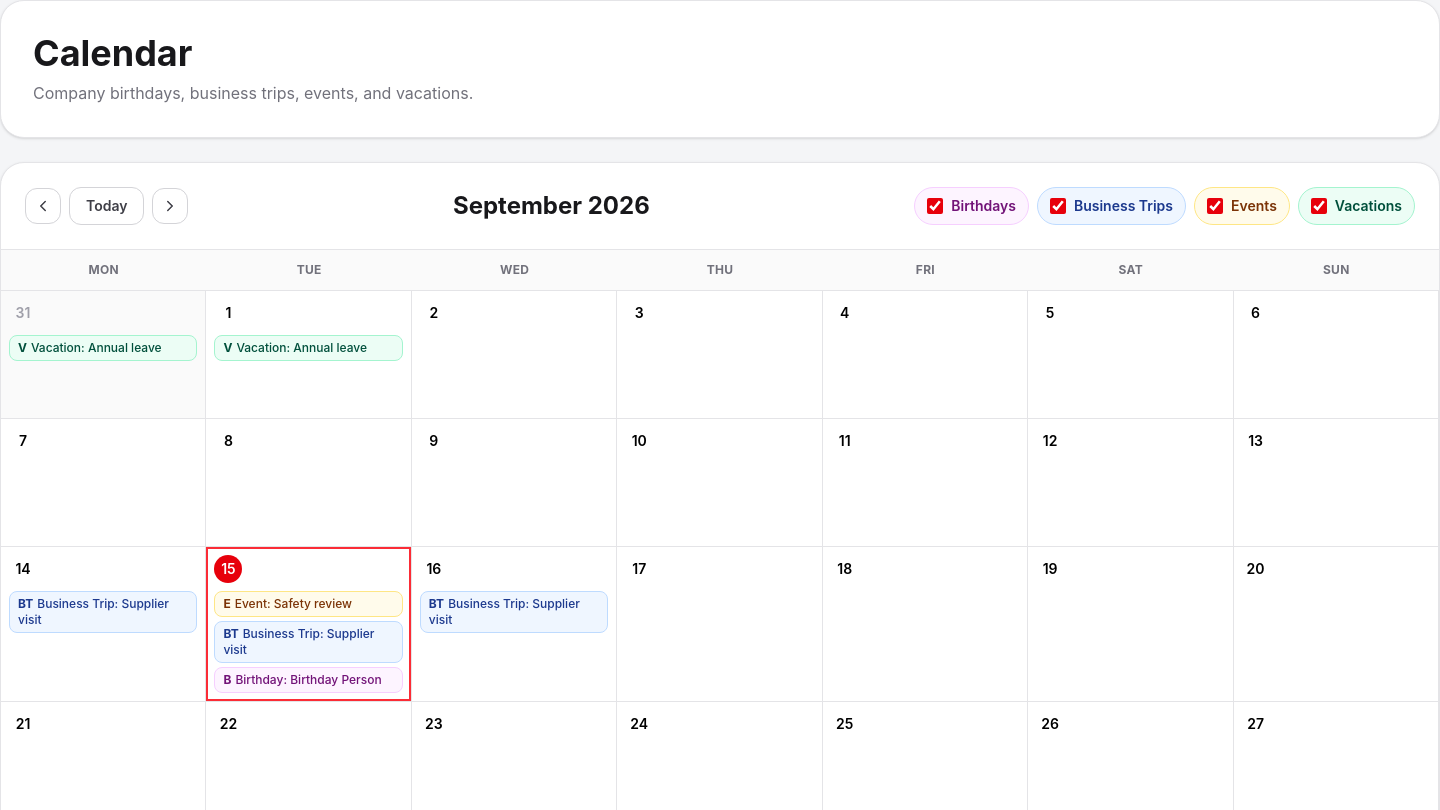
Scenario: CalendarPage › navigates previous, next, and Today without refetching authorized data
Click the button named "Next month": (170, 206) [152,188,188,224]
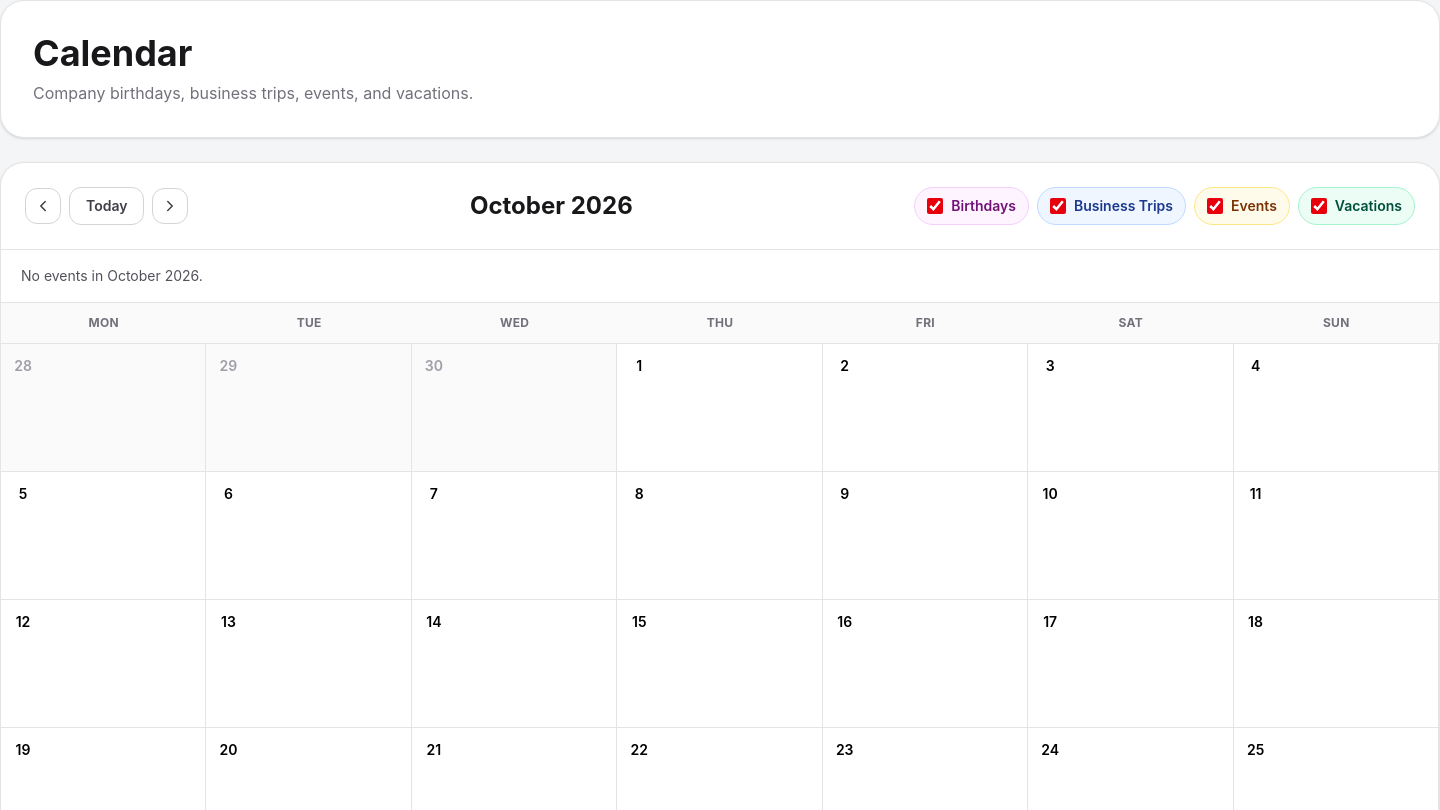
expect the heading "October 2026" is shown: met, box [470,190,633,222]
Click the button named "Previous month": (43, 206) [25,188,61,224]
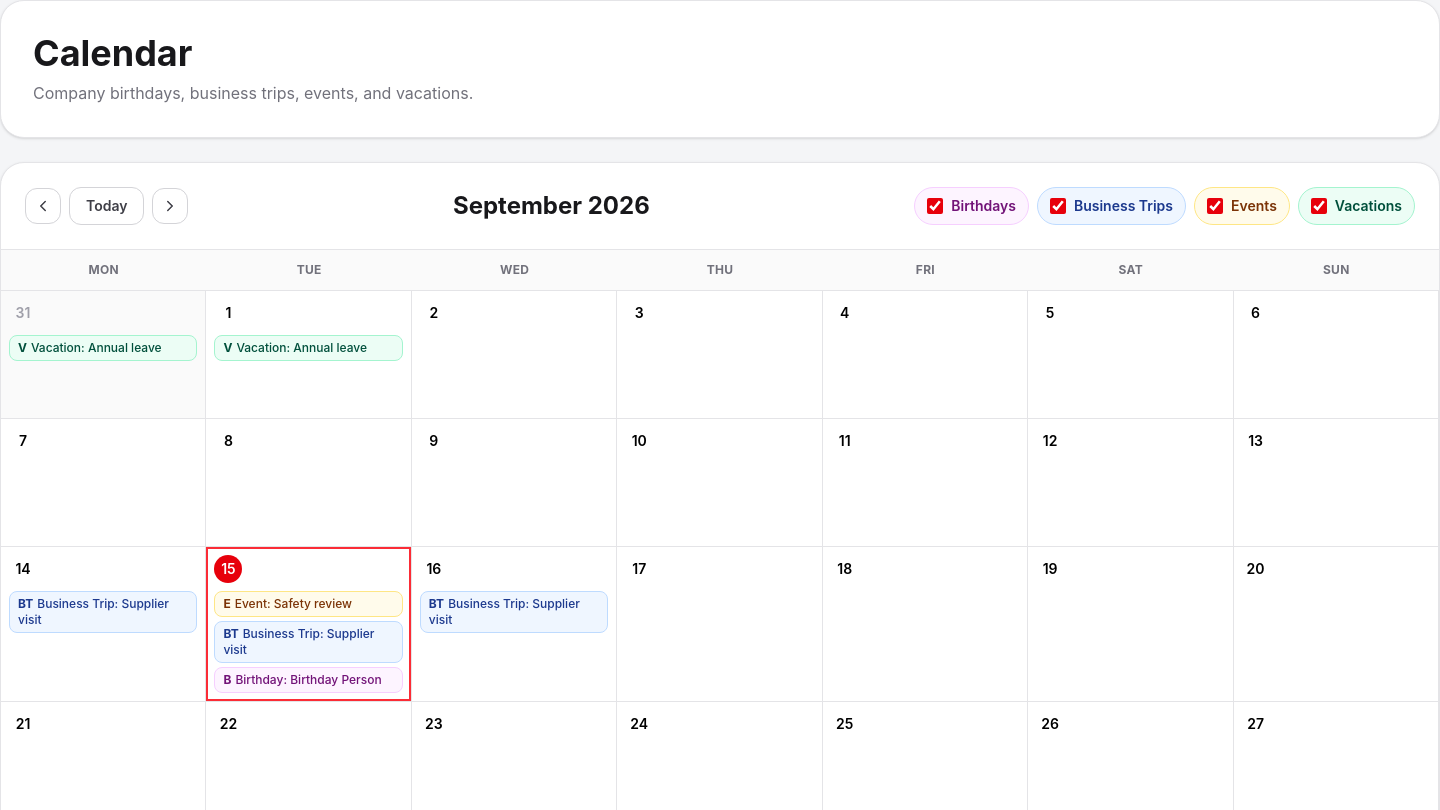
expect the heading "September 2026" is shown: met, box [453,190,650,222]
Click the button named "Previous month": (43, 206) [25,188,61,224]
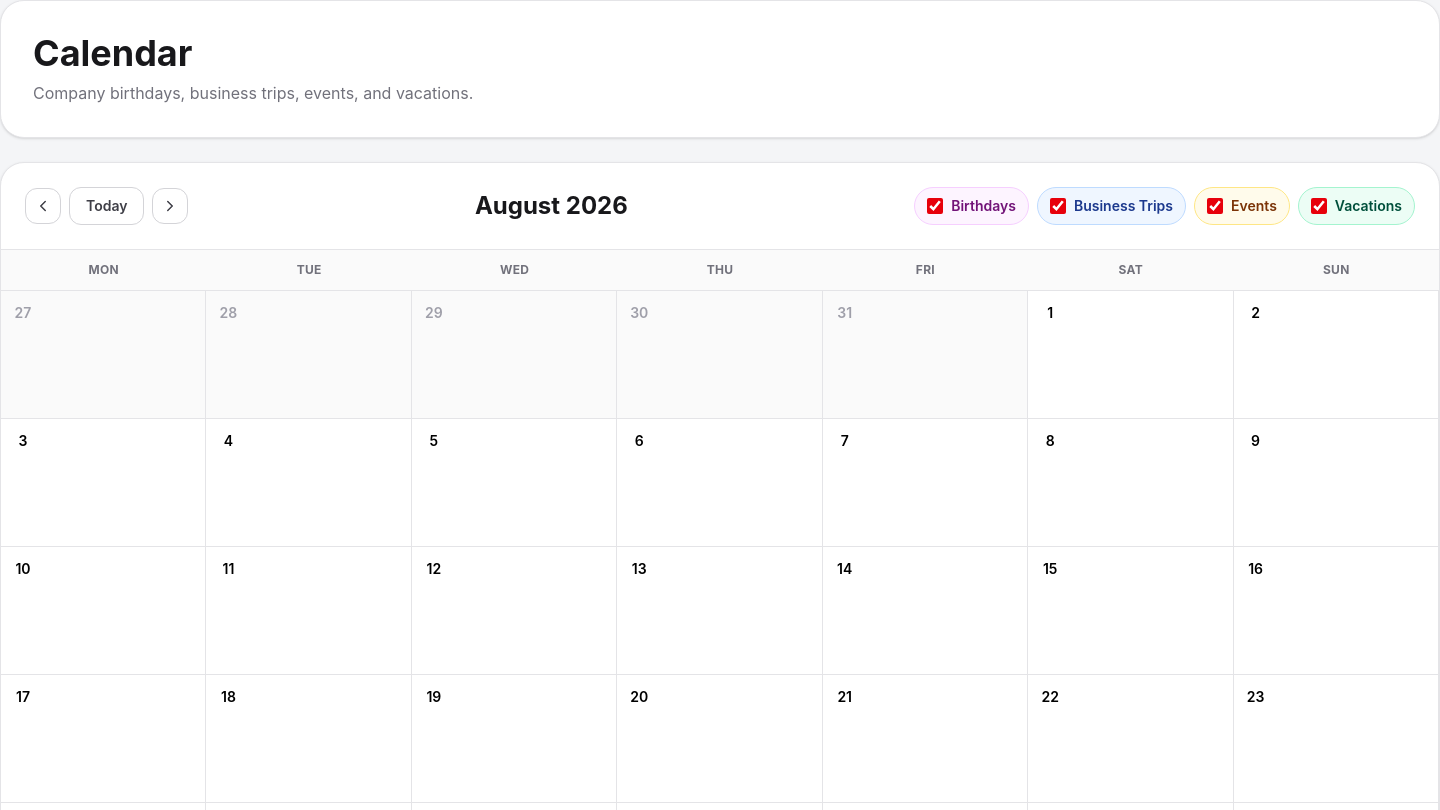
expect the heading "August 2026" is shown: met, box [475,190,628,222]
Click the button "Today": (107, 206) [69,187,144,225]
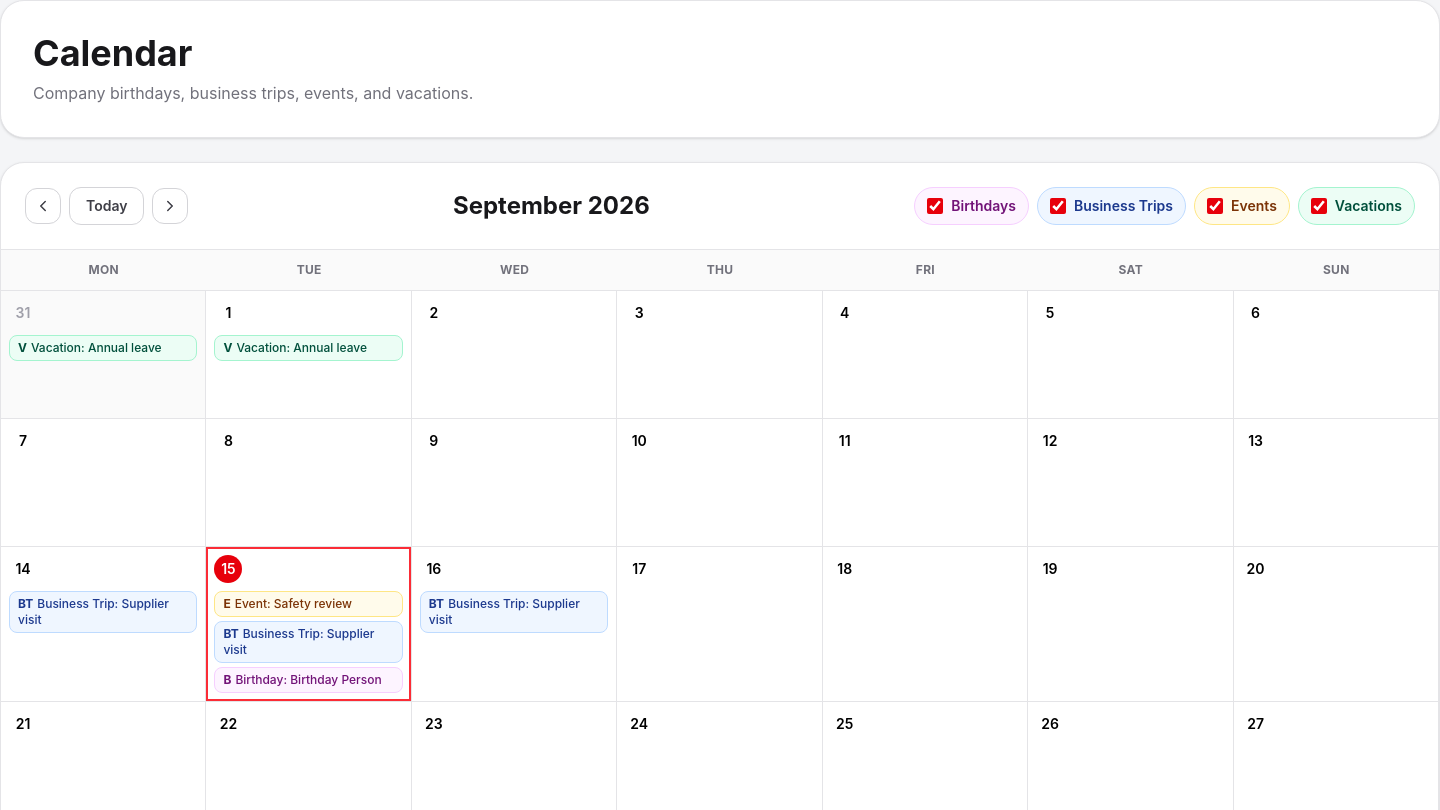
expect the heading "September 2026" is shown: met, box [453,190,650,222]
